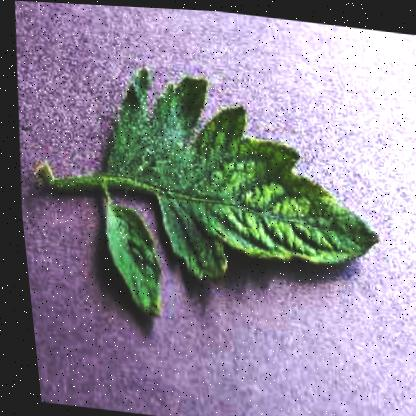Virus: (14, 50, 393, 343)
